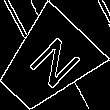N_SW: (15, 31, 79, 95)
